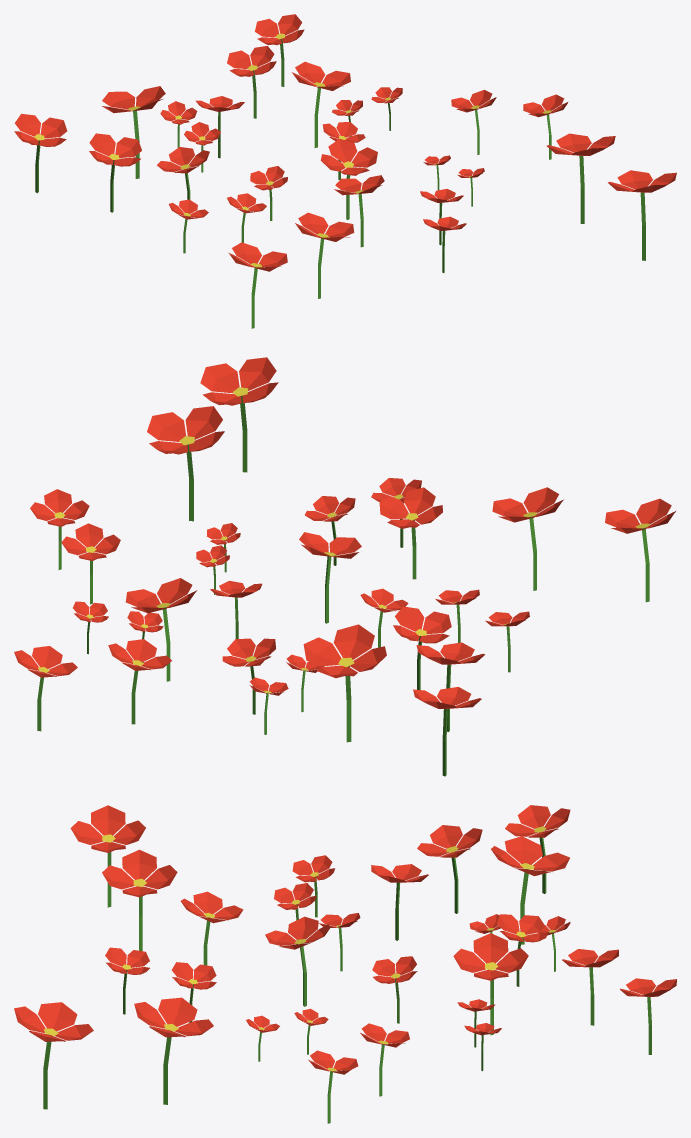
The model's file is flower03.fbx.
3 views of the same model, one above another, from view 1: azimuth 30°, elevation 25°; view 2: azimuth 150°, elevation 25°; view 3: azimuth 270°, elevation 25° (orthographic). The views are drawn at different scales.
Parts seen in each view (by area): view 1: Flower; view 2: Flower; view 3: Flower.
Part boxes in pixels (<box>): Flower: <box>14,14,676,328</box>; Flower: <box>14,357,675,776</box>; Flower: <box>14,805,676,1123</box>.
Bounding box in the file's own units: 215 × 38.83 × 237.
